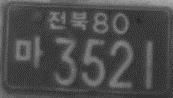0: (113, 12, 129, 34)
1: (143, 38, 155, 92)
2: (108, 38, 135, 89)
3: (53, 36, 77, 86)
5: (80, 38, 107, 85)
8: (92, 11, 108, 34)
마: (14, 35, 44, 72)
전북_O: (46, 10, 87, 32)
